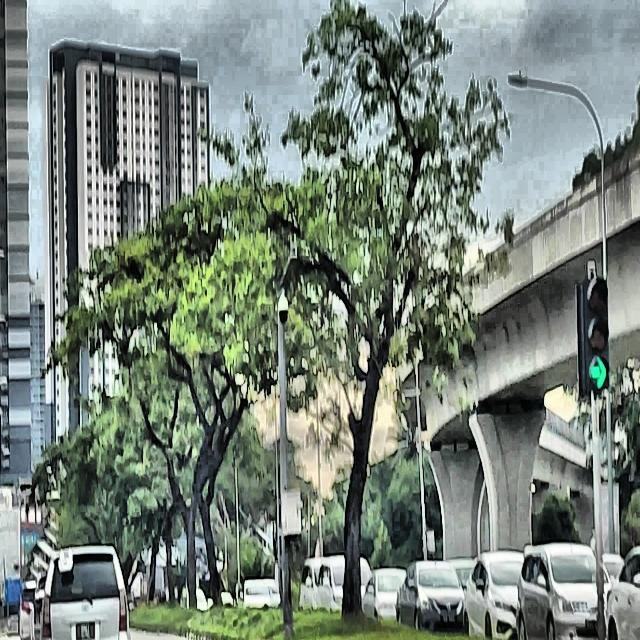green: (585, 278, 610, 394)
